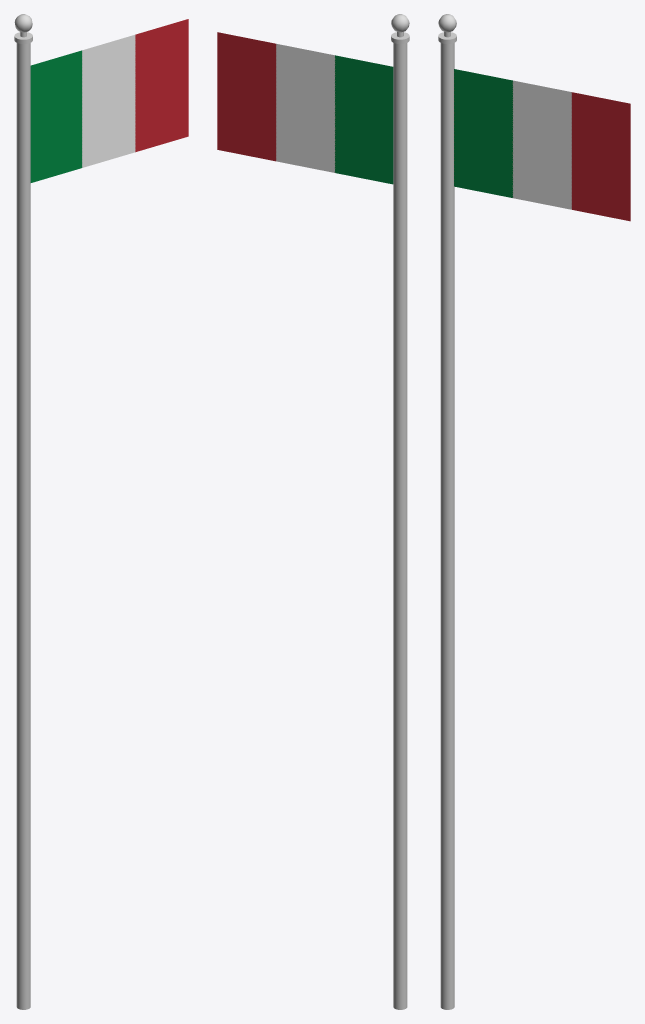
The model's file is FlagCountry_4.fbx.
3 views of the same model, side by side, from view 1: azimuth 30°, elevation 25°; view 2: azimuth 150°, elevation 25°; view 3: azimuth 330°, elevation 25° (orthographic).
Parts seen in each view (by area): view 1: FlagCountry_4; view 2: FlagCountry_4; view 3: FlagCountry_4.
Boxes of the visible parts, x1,y1,x2,y2 form: FlagCountry_4: (14, 14, 188, 1009); FlagCountry_4: (217, 14, 409, 1009); FlagCountry_4: (438, 14, 630, 1009).
Size of the model in its own units: 4.53 by 23.6 by 0.5914.
Materials: 2 (1 with a texture image).
